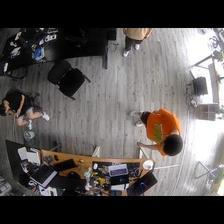normal: (131, 106, 182, 157)
